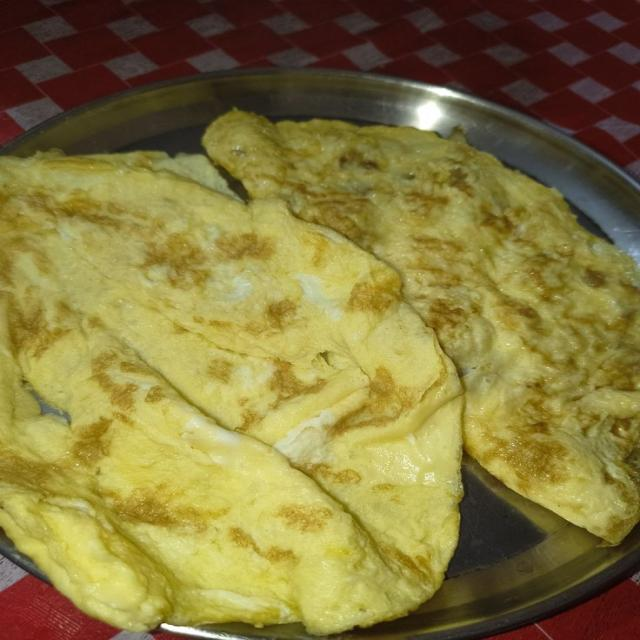omelette: (0, 154, 461, 634), (204, 111, 639, 544)
